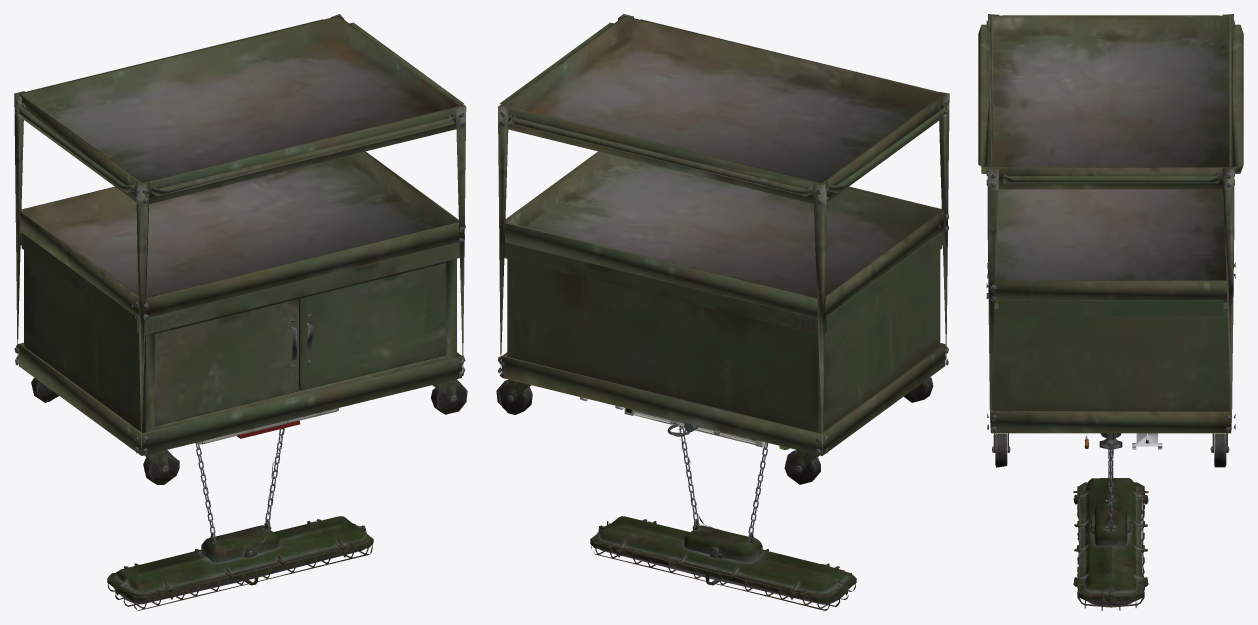
Rendered from lab.glb.
The picture shows the model from 3 angles, left to right: view 1: azimuth 30°, elevation 25°; view 2: azimuth 150°, elevation 25°; view 3: azimuth 270°, elevation 25°; orthographic projection. The views are drawn at different scales.
Visible parts, largest first — view 1: industrial_storage_cart, caged_hanging_light; view 2: industrial_storage_cart, caged_hanging_light; view 3: industrial_storage_cart, caged_hanging_light, chemistry_set_clamp_stand.
Boxes of the visible parts, x1=… form: industrial_storage_cart: x1=14, y1=14, x2=467, y2=484; caged_hanging_light: x1=107, y1=428, x2=373, y2=610; industrial_storage_cart: x1=496, y1=14, x2=949, y2=484; caged_hanging_light: x1=590, y1=426, x2=856, y2=610; industrial_storage_cart: x1=978, y1=14, x2=1243, y2=467; caged_hanging_light: x1=1073, y1=449, x2=1148, y2=610; chemistry_set_clamp_stand: x1=1132, y1=433, x2=1162, y2=449.
Size of the model in its own units: 1.6 by 2.13 by 1.1.
Materials: 16 (15 with a texture image).
